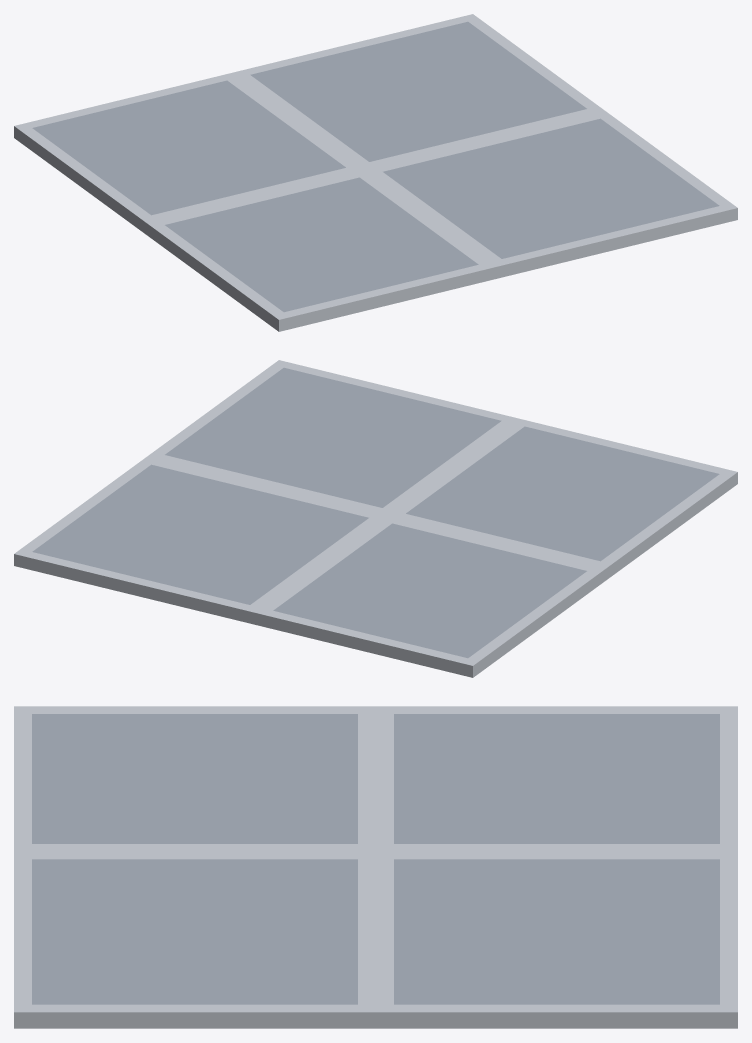
The model's file is floor-classroom.obj.
The picture shows the model from 3 angles, top to bottom: view 1: azimuth 30°, elevation 25°; view 2: azimuth 150°, elevation 25°; view 3: azimuth 270°, elevation 25°; orthographic projection. The views are drawn at different scales.
Bounding box in the file's own units: 4 × 0.1 × 4.
Materials: 1 (1 with a texture image).
